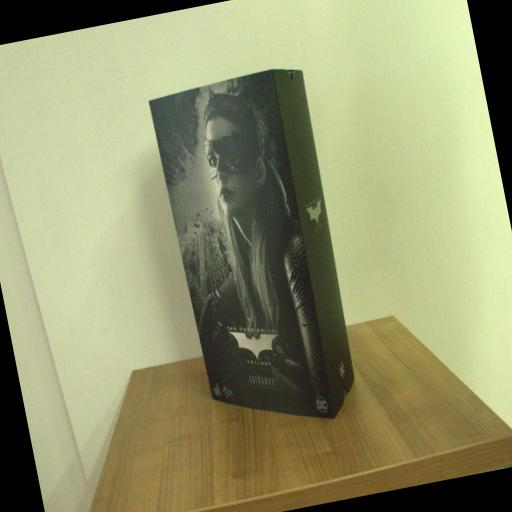catwoman: (148, 64, 370, 442)
